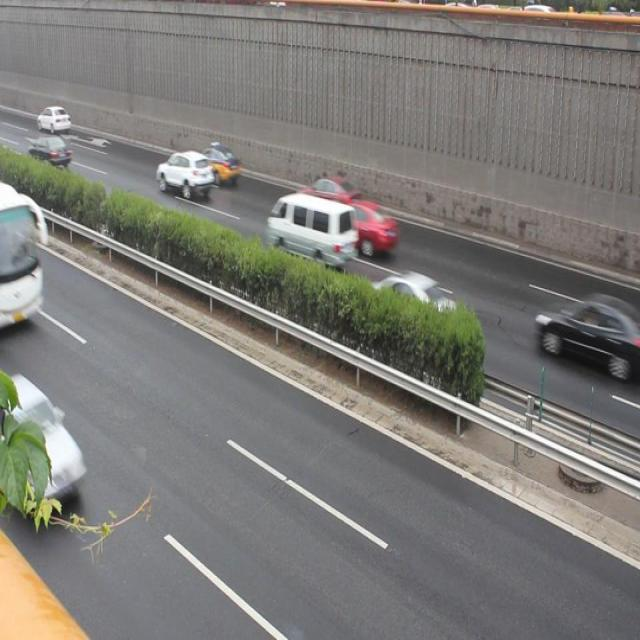car: (1, 375, 93, 504), (528, 295, 640, 387), (364, 263, 456, 341), (336, 191, 402, 259), (158, 154, 218, 200), (298, 172, 358, 216), (192, 136, 239, 182), (27, 132, 72, 167), (33, 102, 74, 140)
truck: (260, 193, 353, 266)
van: (1, 180, 49, 320)
